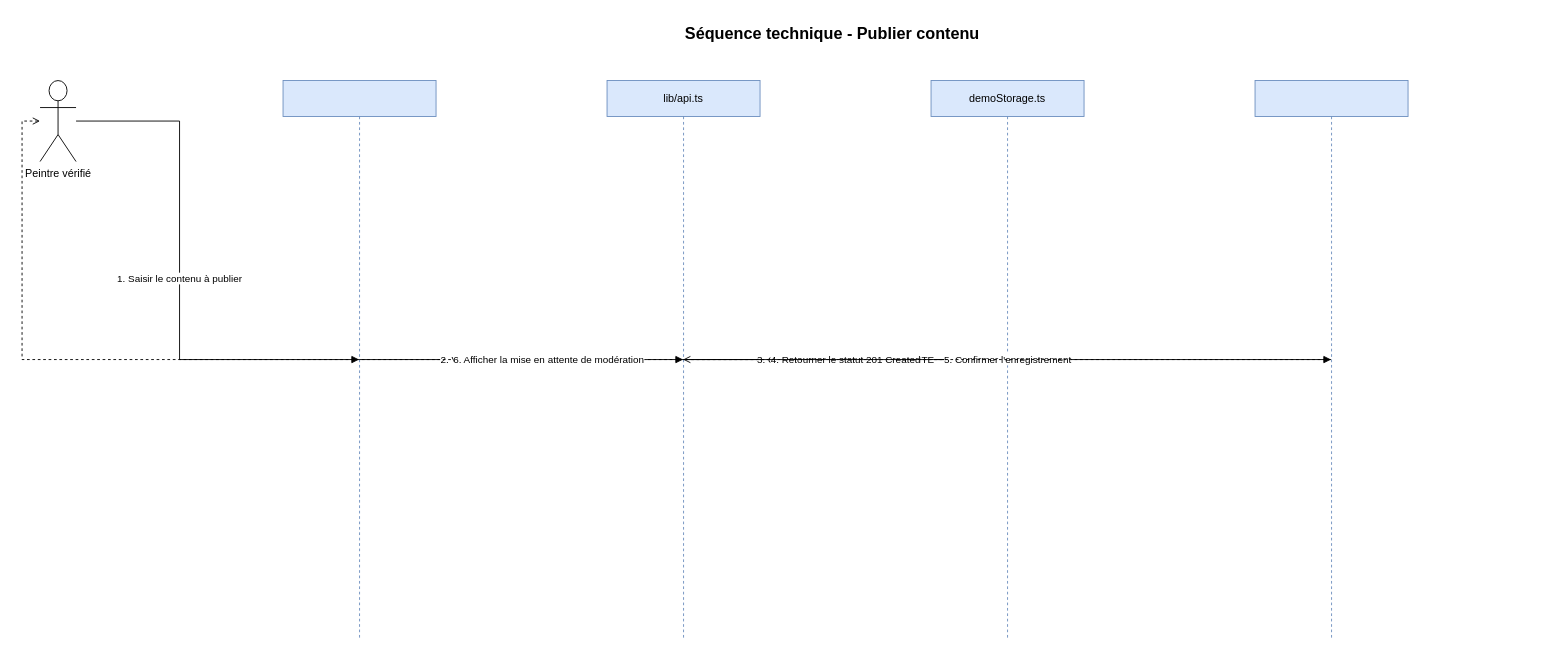
The diagram is 1550 pixels wide and 654 high, and some of its shapes have lost their labels. Here are the shapes that lost their labels. From the top down, the box of each, then its label:
(282, 80, 436, 639): Formulaire de publication
(1254, 80, 1408, 639): Contenu en attente
